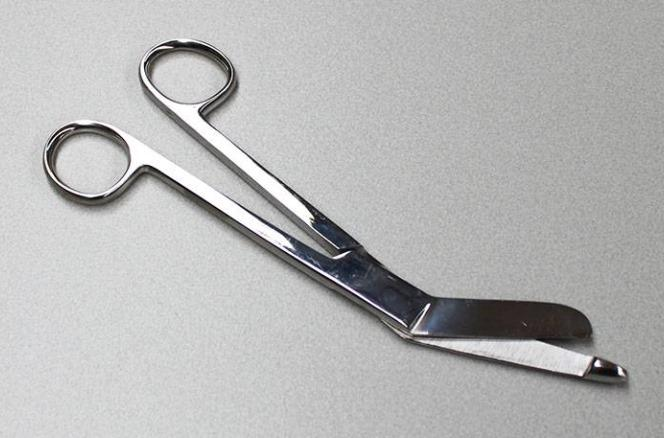Bandage Sciccors: (40, 34, 636, 397)
